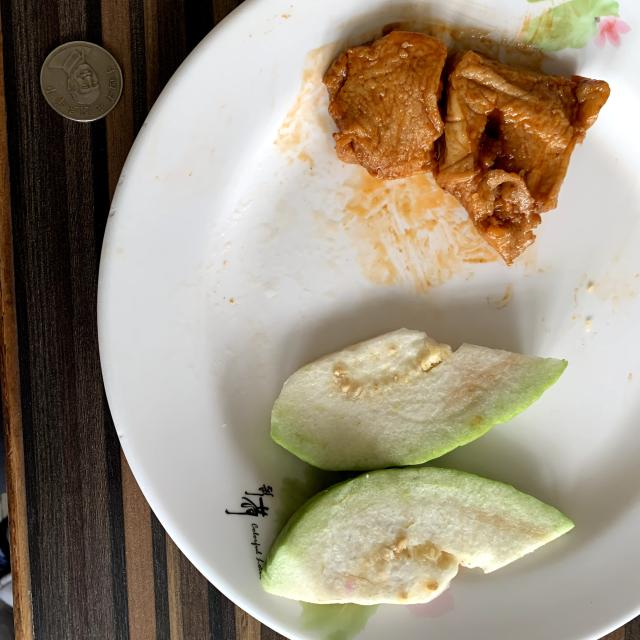coin: (40, 41, 122, 121)
creamy tofu: (322, 31, 610, 264)
guava -sliced-: (261, 329, 574, 605)
